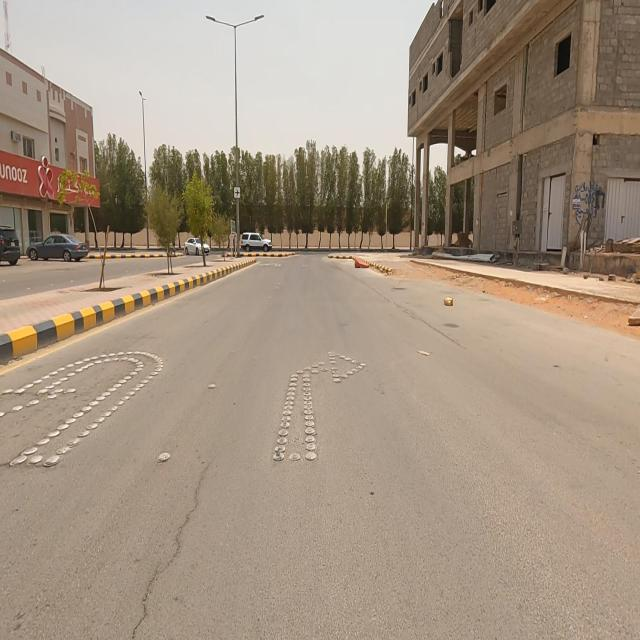Graffiti: (573, 180, 606, 229)
